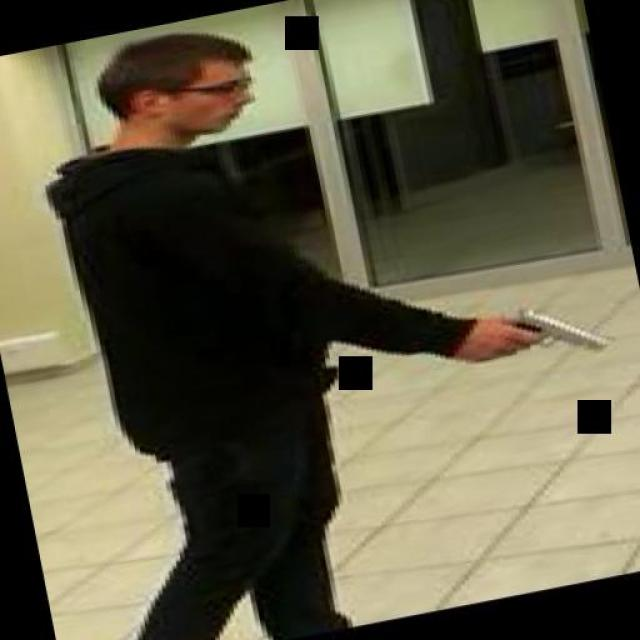gun: (462, 288, 614, 374)
